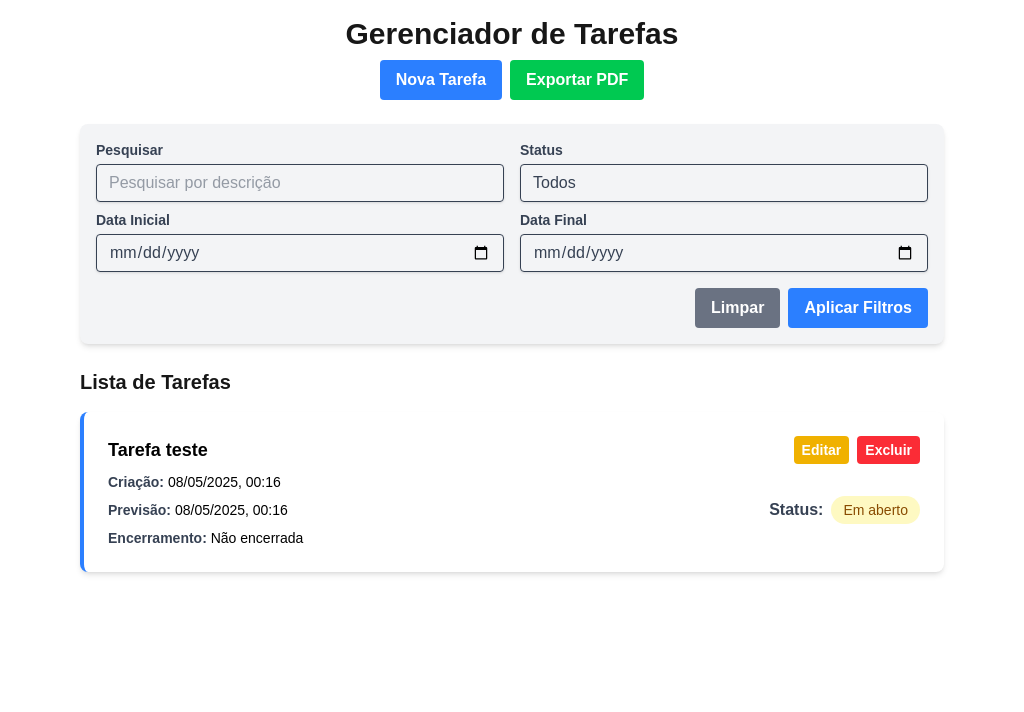
Test: Tarefas › should show success message when creating task
Click the button "Nova Tarefa" at x=441, y=80, box x1=380 y1=60 x2=502 y2=100
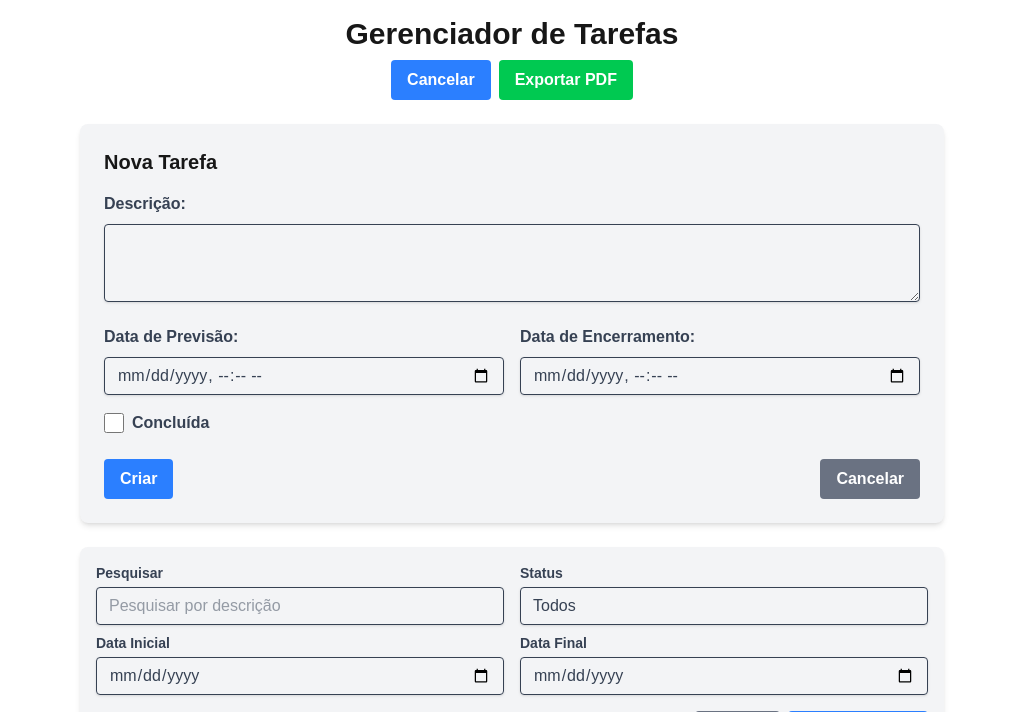
Type "Nova tarefa" into the text box labelled "Descrição:" at x=512, y=263, box x1=104 y1=224 x2=920 y2=302
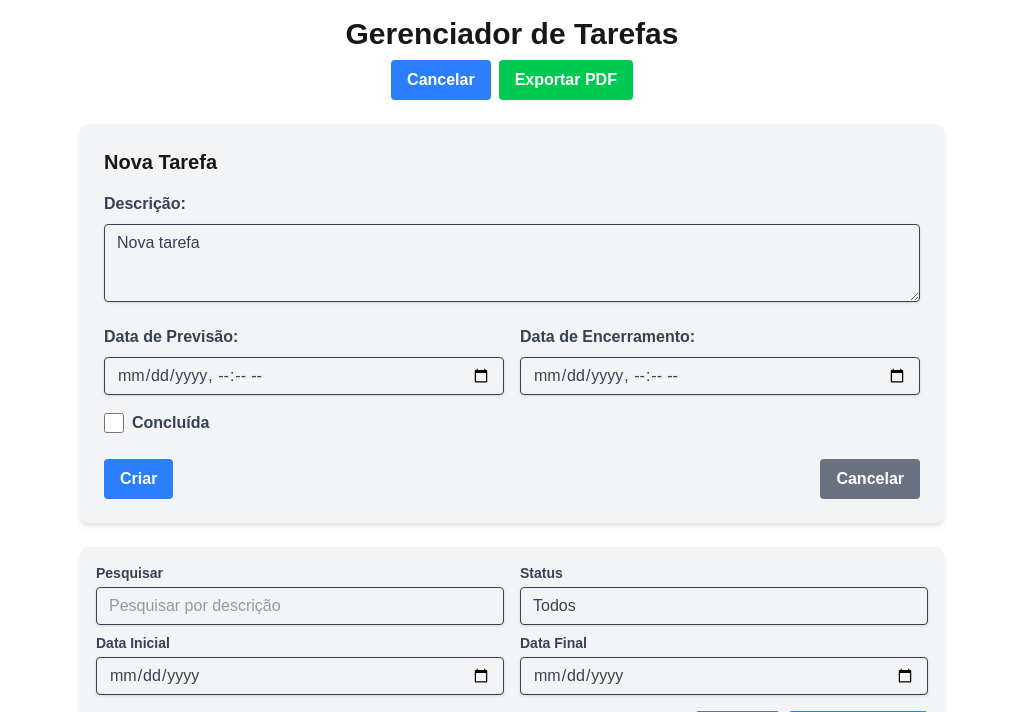
Click the button "Criar" at x=139, y=479, box x1=104 y1=459 x2=173 y2=499
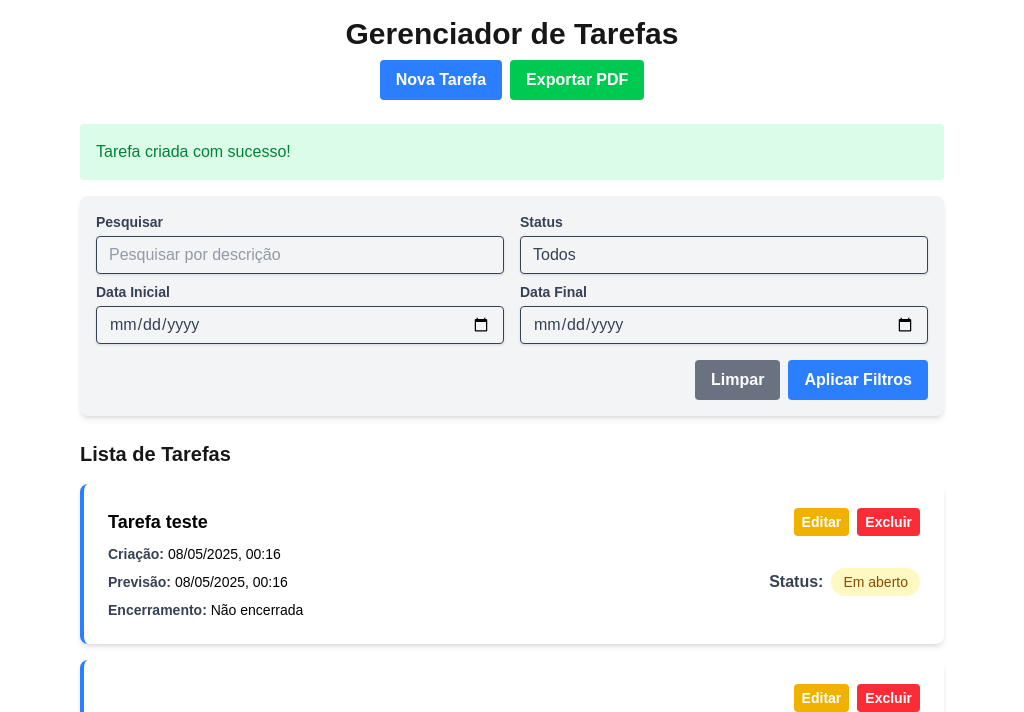
Result: the text "Tarefa criada com sucesso!" is shown at x1=80 y1=124 x2=944 y2=180
